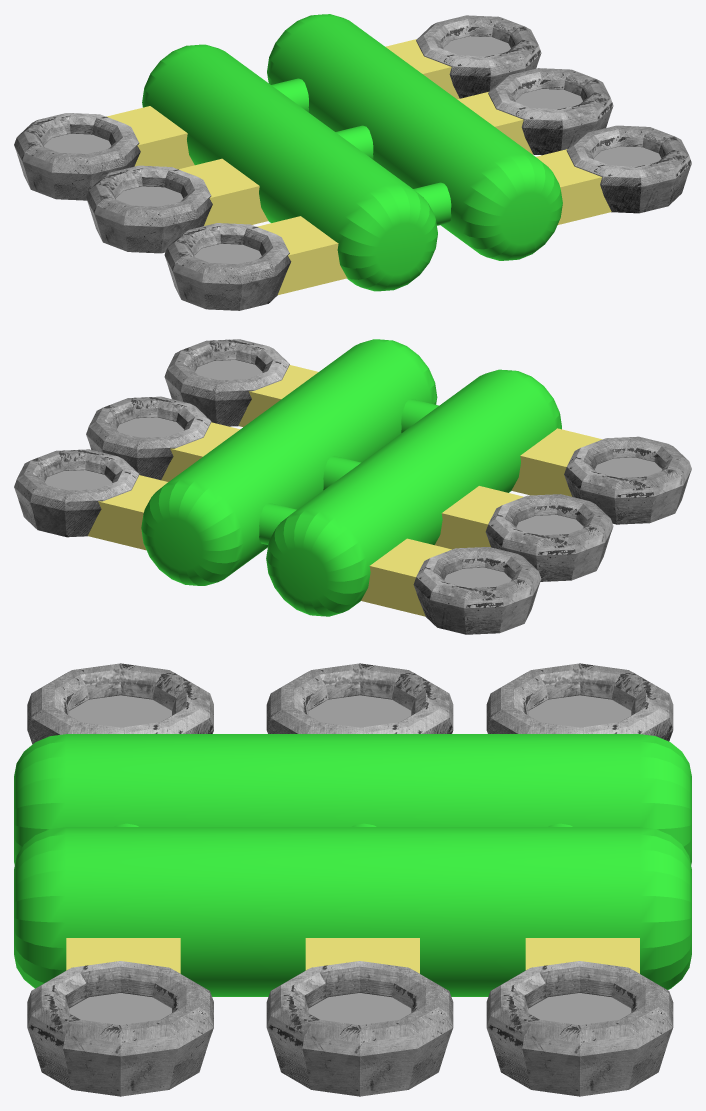
The model's file is PlasticFactory_stage2.fbx.
The picture shows the model from 3 angles, top to bottom: view 1: azimuth 30°, elevation 25°; view 2: azimuth 150°, elevation 25°; view 3: azimuth 270°, elevation 25°; orthographic projection. The views are drawn at different scales.
Visible parts, largest first — view 1: polySurface246; view 2: polySurface246; view 3: polySurface246.
Part boxes in pixels (x1,y1,x2,y2): polySurface246: [14, 14, 691, 310]; polySurface246: [14, 339, 691, 634]; polySurface246: [14, 663, 691, 1096].
Size of the model in its own units: 87.32 by 16.61 by 65.75.
Materials: 5 (4 with a texture image).
